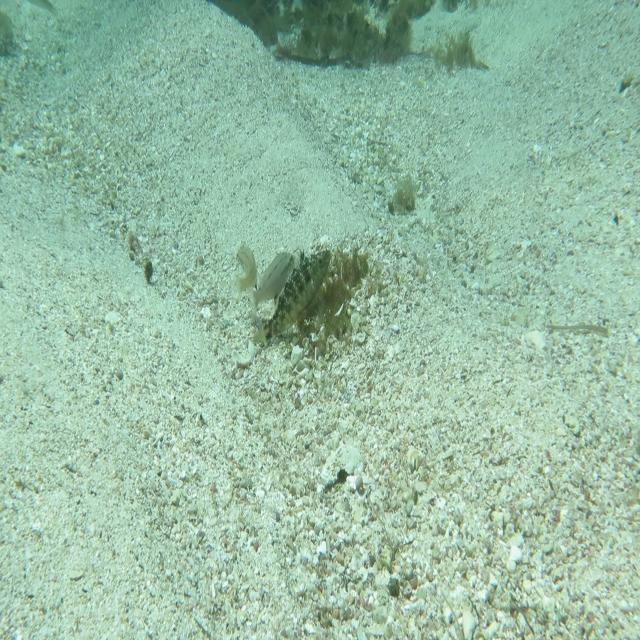Coris_julis_female: (11, 0, 68, 23)
ROLL: (249, 242, 334, 350)
female: (245, 248, 297, 326)
nest: (277, 246, 374, 366)
other_fish: (221, 238, 260, 302)
